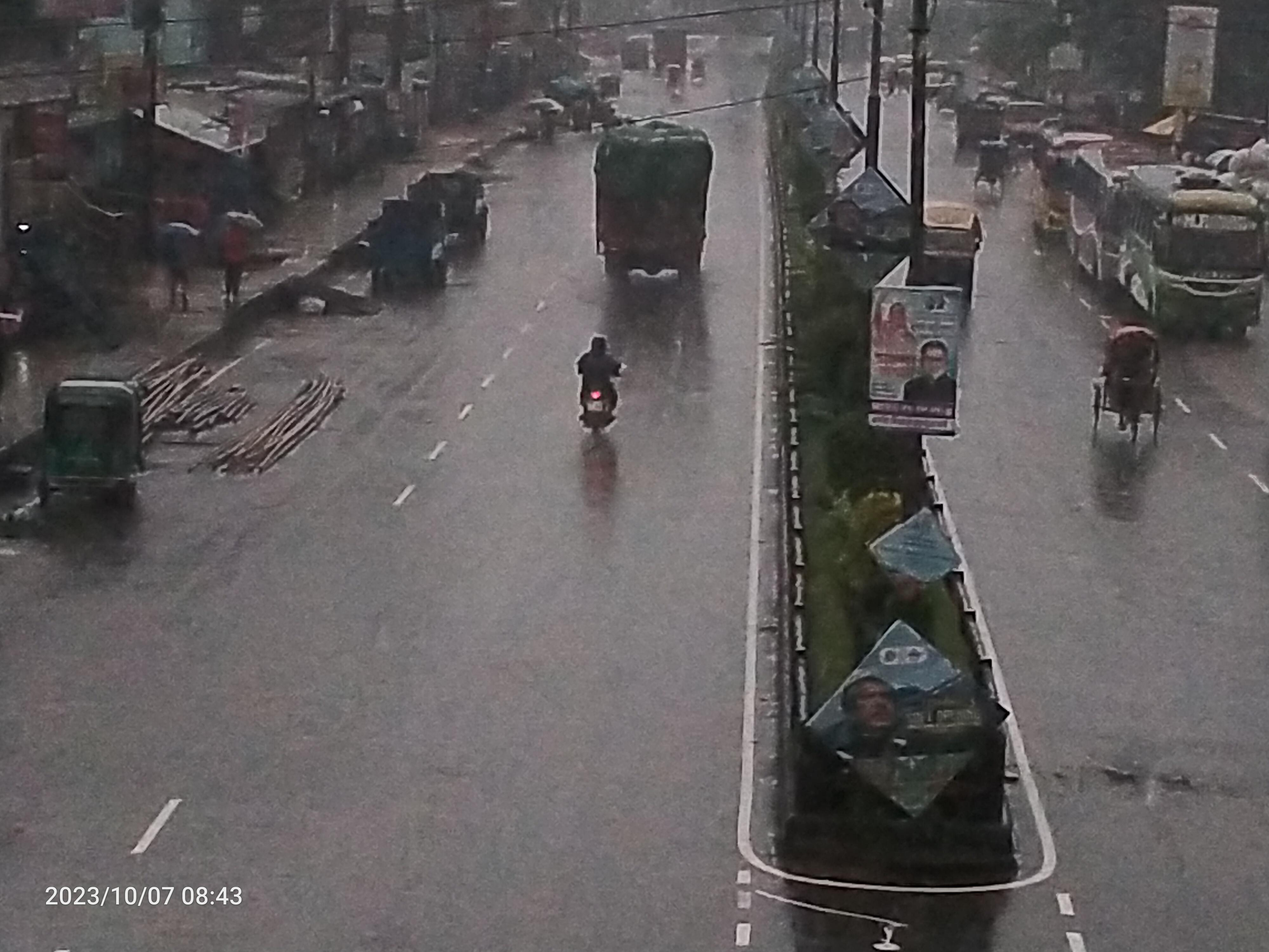Bike: (538, 315, 634, 456)
Bus: (1106, 151, 1269, 358), (1053, 134, 1156, 296)
Car: (1073, 305, 1190, 482), (896, 193, 990, 335)
Truck: (573, 105, 730, 308), (343, 188, 471, 313), (397, 145, 508, 264)
